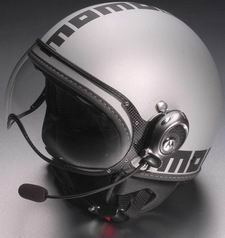helmet: (18, 8, 220, 221)
